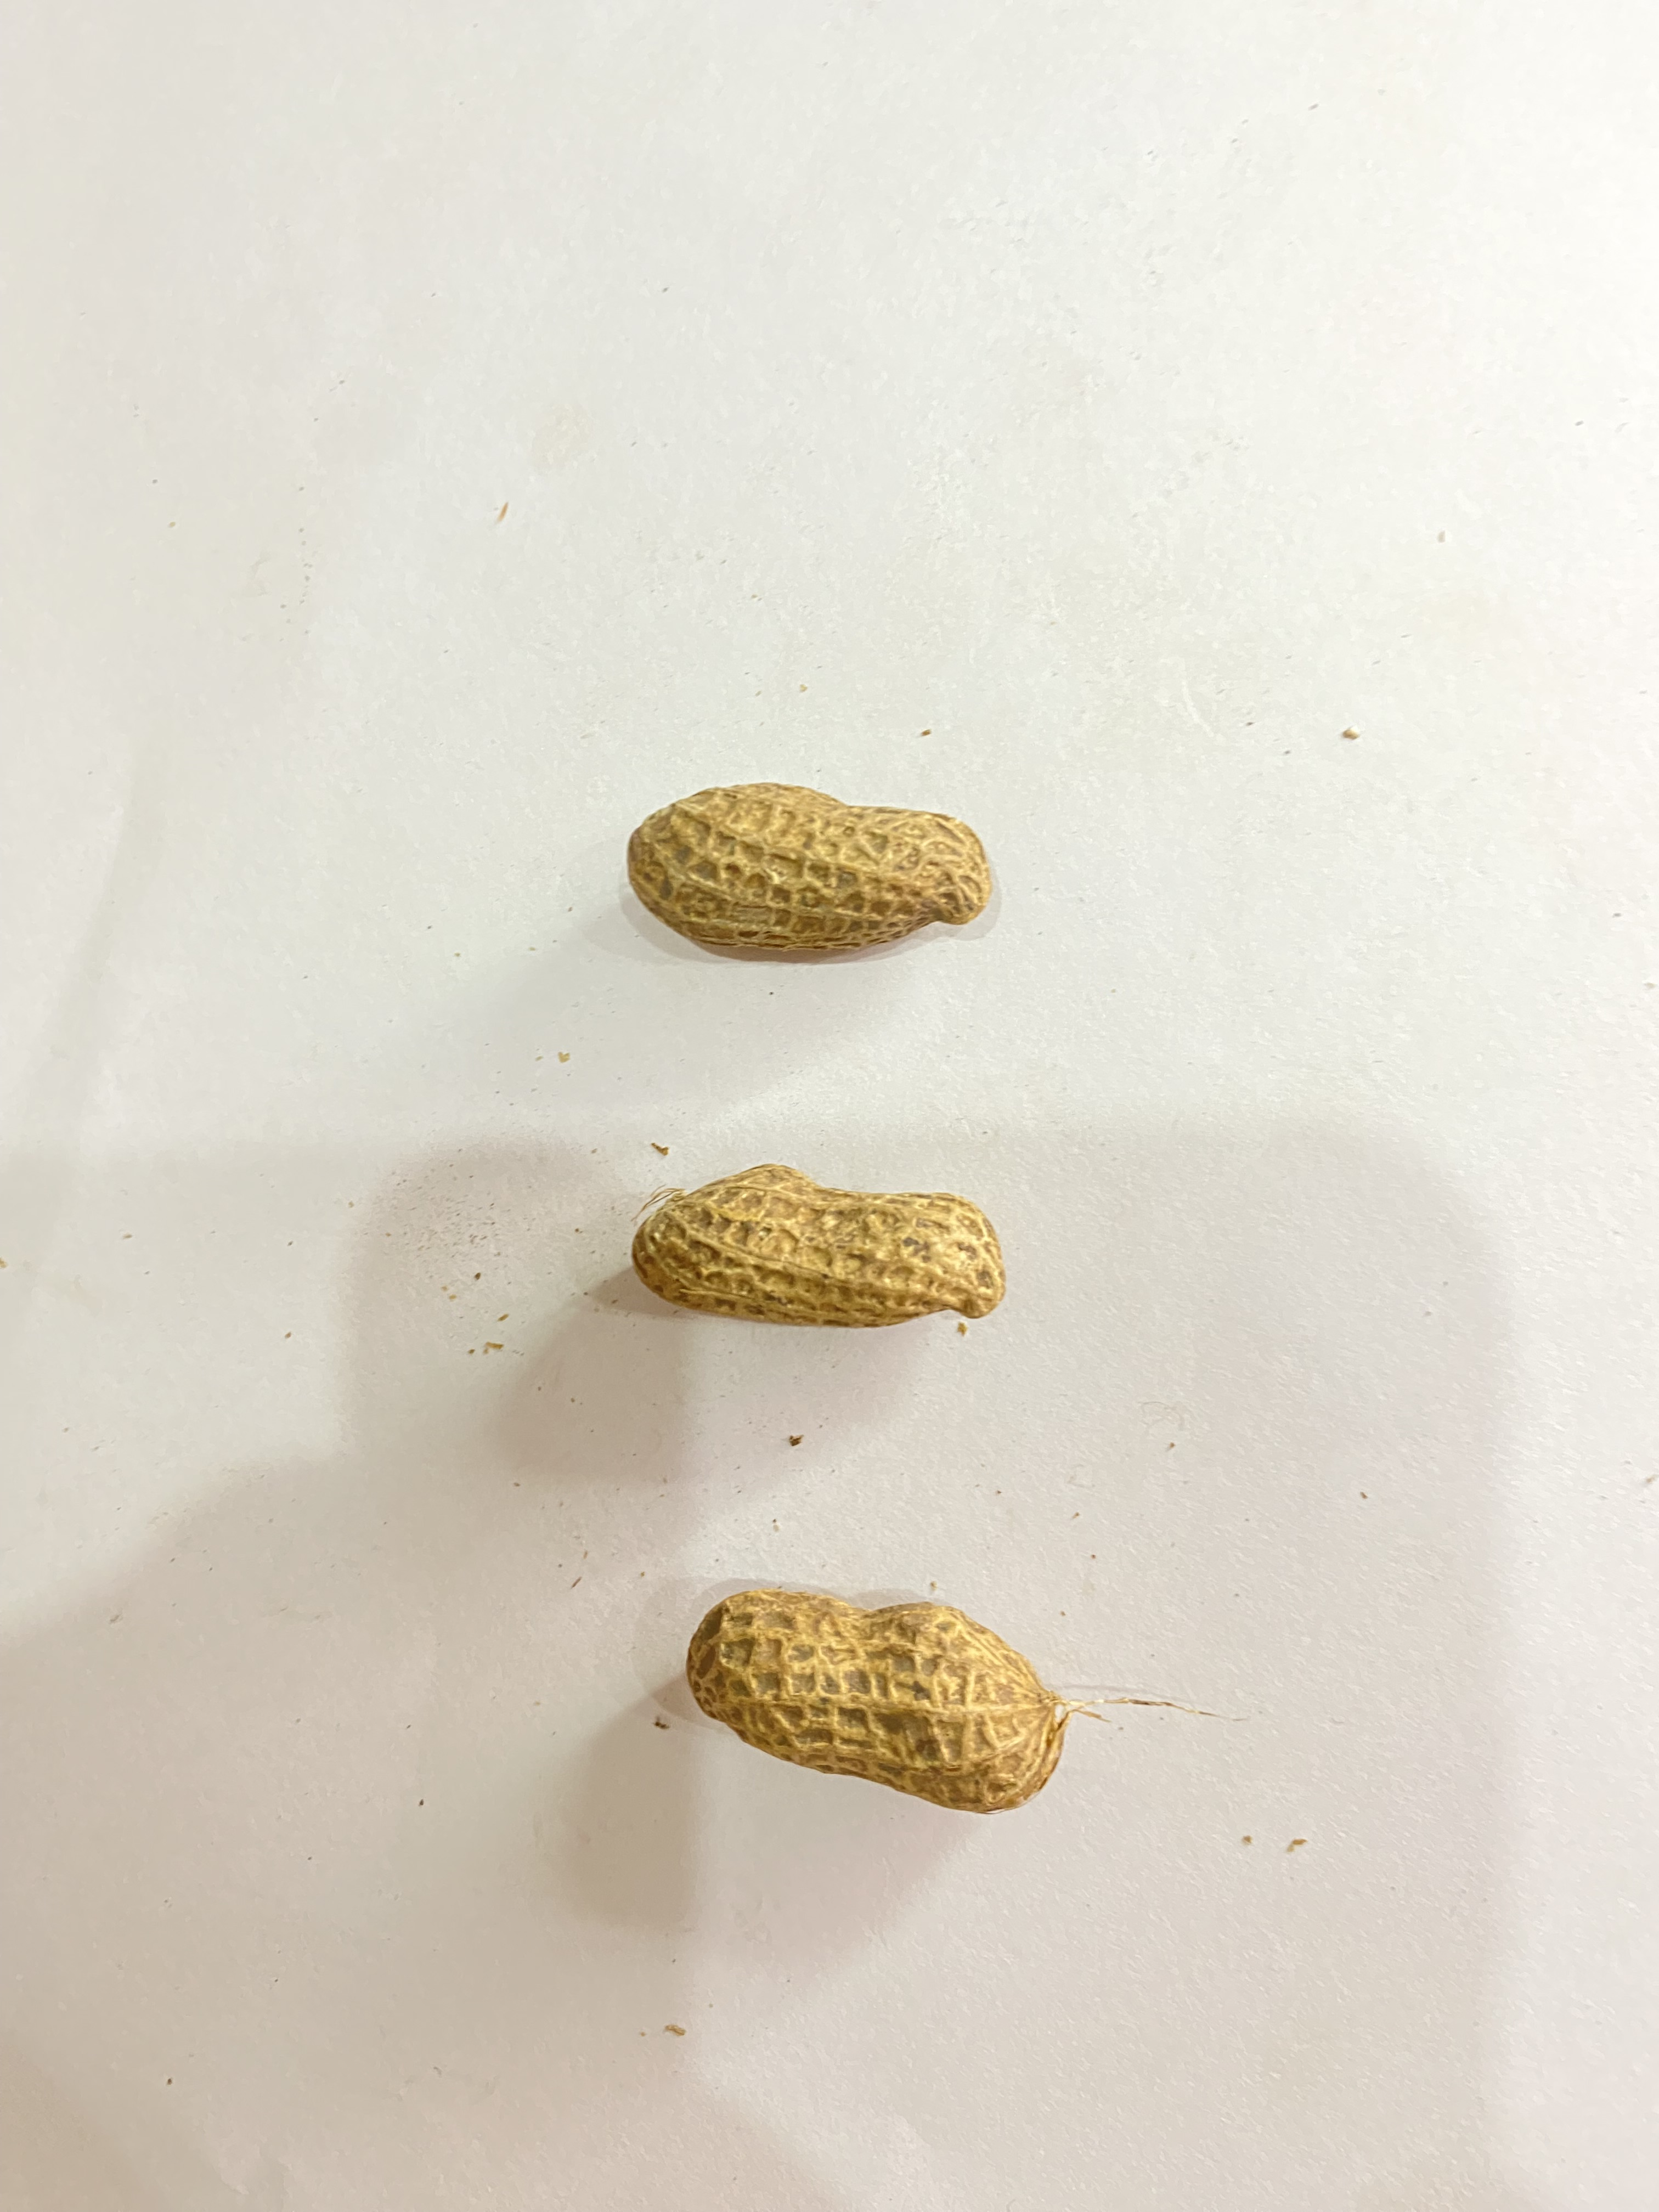kacang1: (599, 775, 1103, 961)
kacang2: (626, 1559, 1134, 1851), (601, 1157, 1086, 1341)
